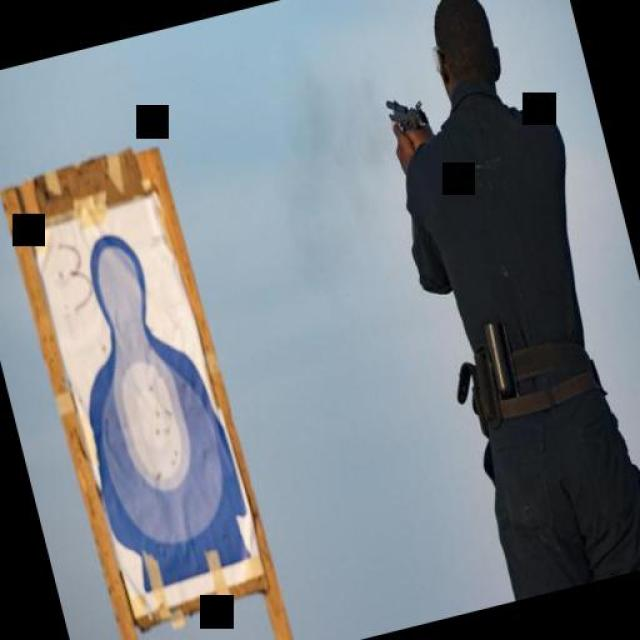gun: (378, 85, 432, 147)
